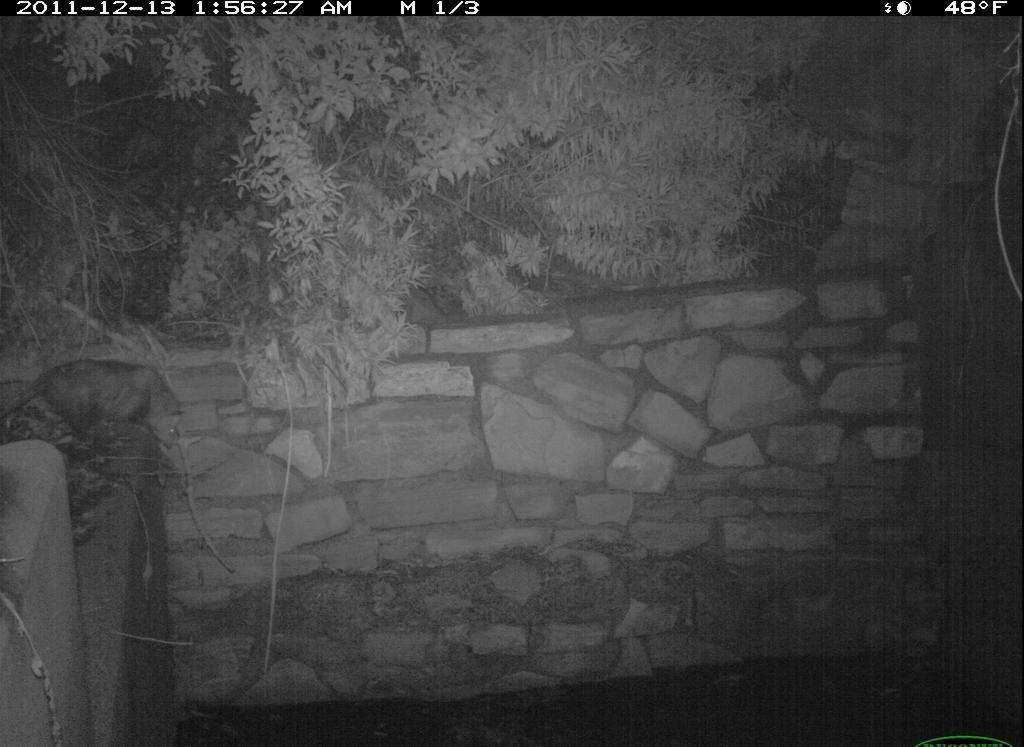opossum: (2, 351, 187, 466)
